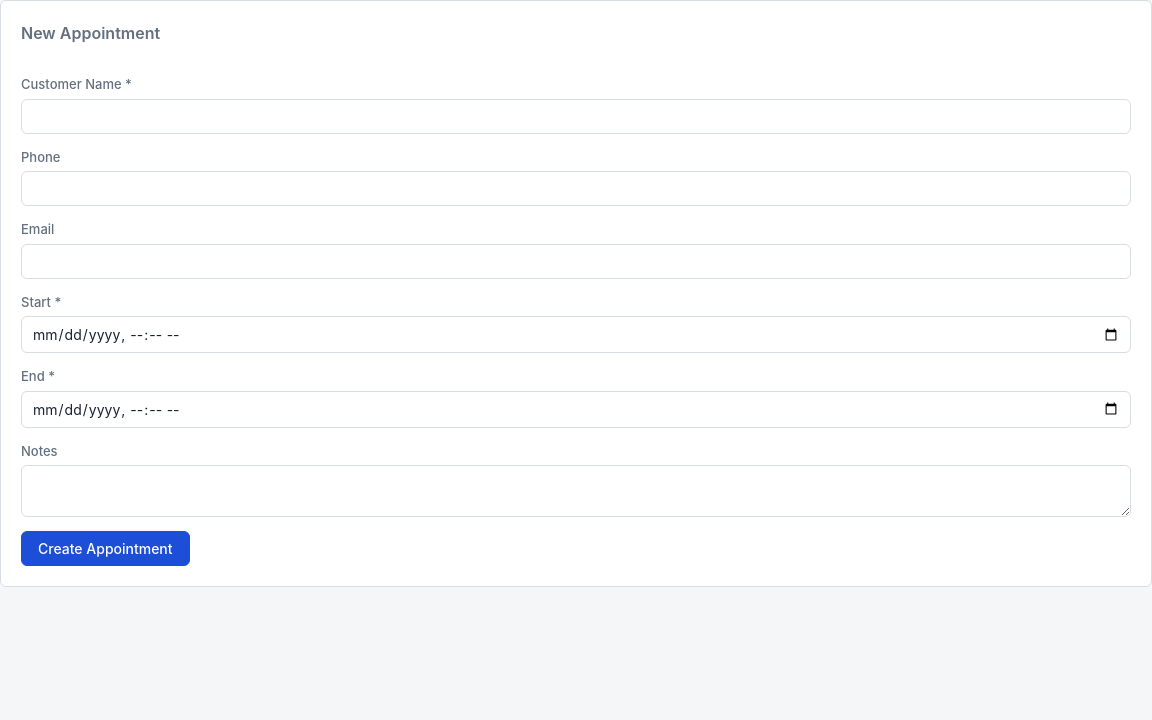
Test: AppointmentForm › shows conflict warning when checkConflict returns true
Type "2026-09-01T10:15" into the field labelled "Start *" at [576, 334], box 21,316 -> 1131,353
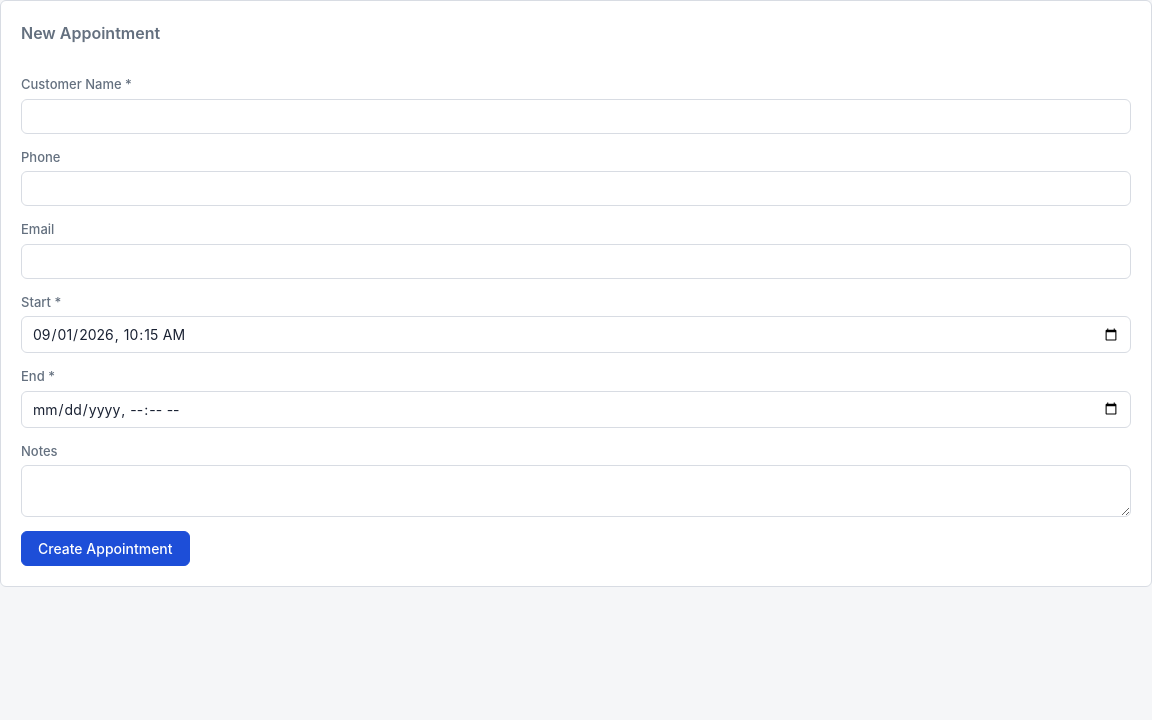
Type "2026-09-01T10:45" into the field labelled "End *" at [576, 409], box 21,390 -> 1131,428
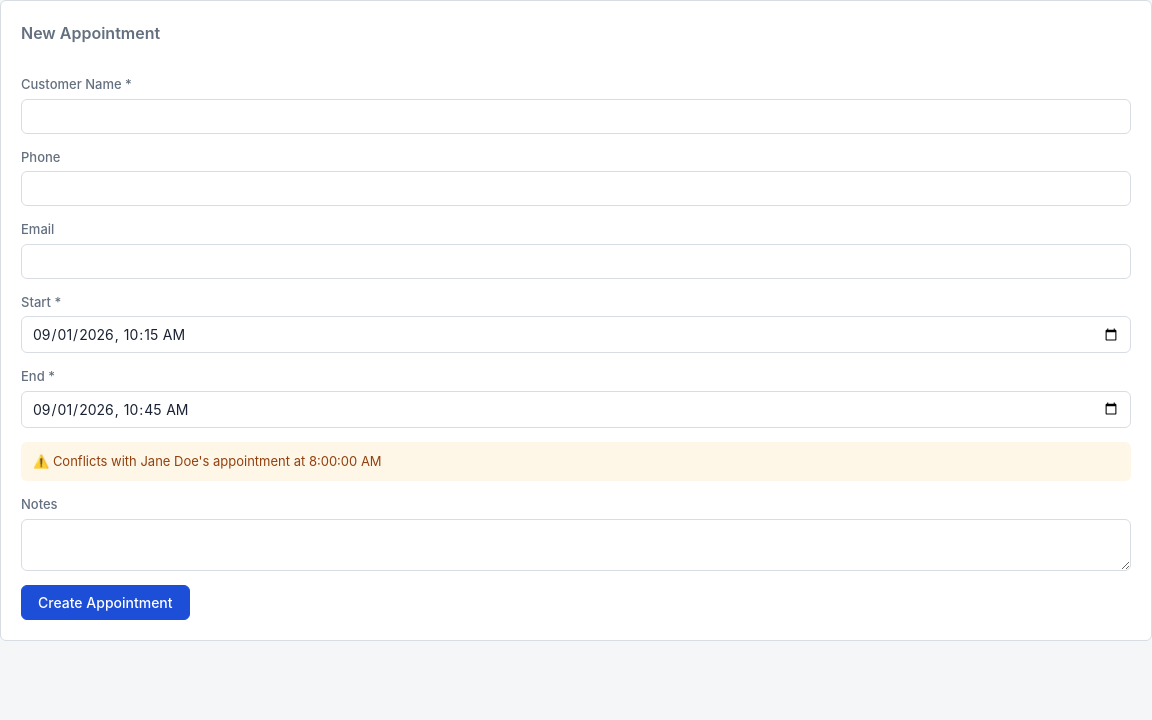
Now the text "⚠️ Conflicts with Jane Doe's appointment at 8:00:00 AM" is shown, box 21,442 -> 1131,481
